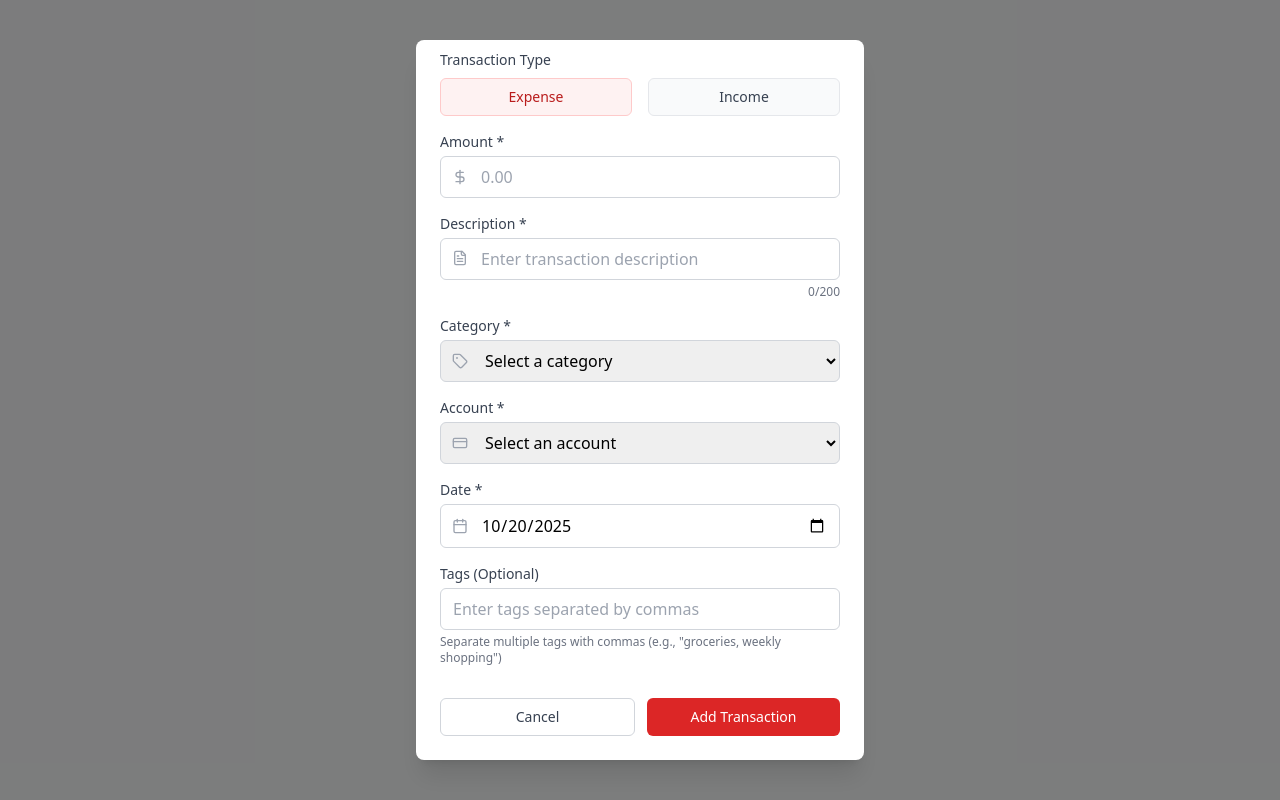
it: TransactionForm › Form Validation › should show validation errors for empty required fields
(page scrolled)
Click the button "Add Transaction". click: x=744, y=717
box: [647,698,840,736]
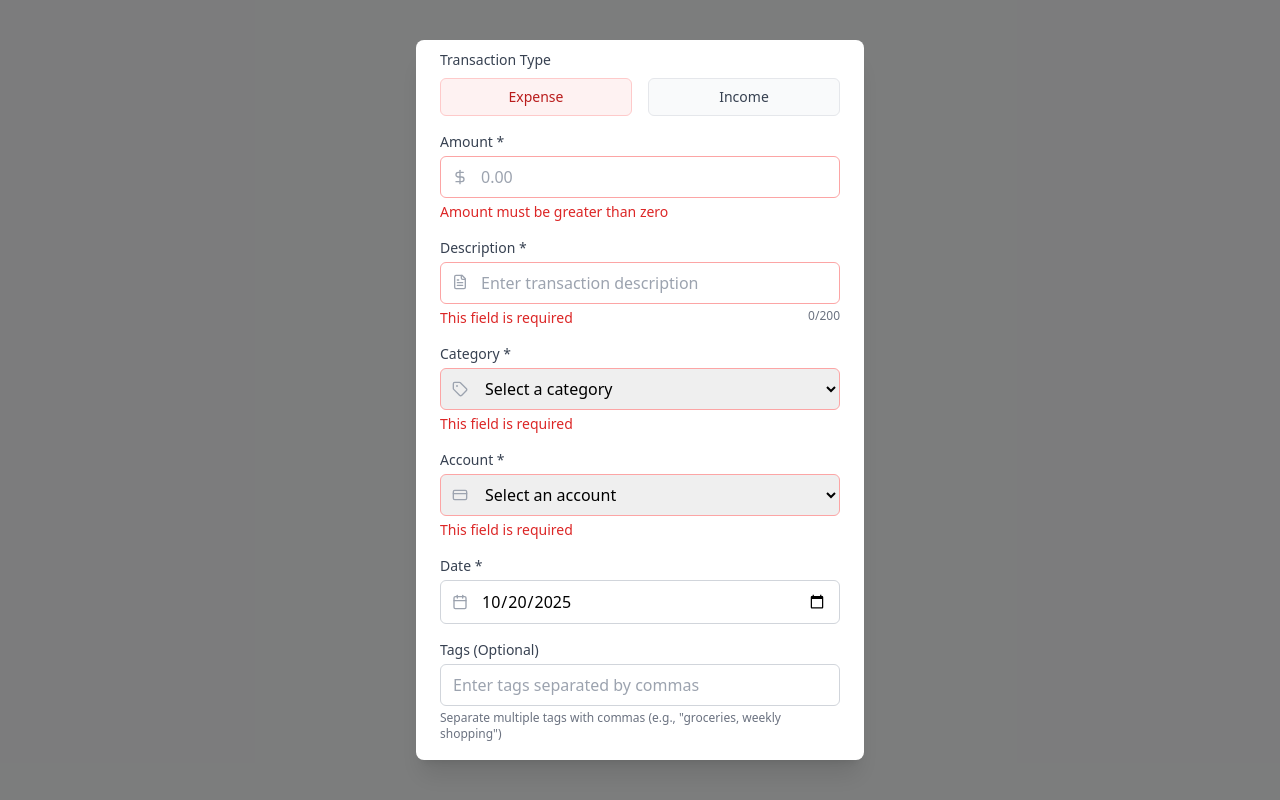
Check: the text "Amount must be greater than zero" is shown, box [440,202,668,221]
Check: the text "This field is required" is shown 3 times, box [440,308,573,328]; [440,414,573,433]; [440,520,573,539]
